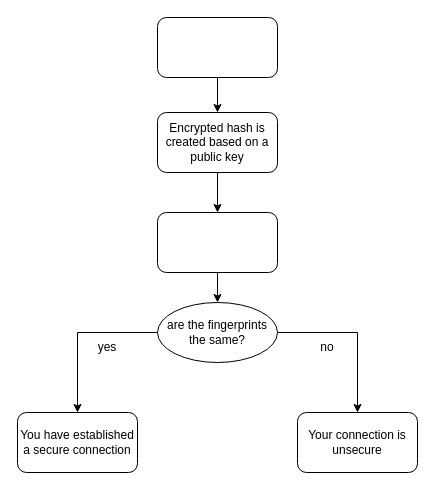
Image size: 435x490. Some labels were removed from this diagram. Here are the shapes that lost their labels. From the top down, the box of each, then its label:
(156, 16, 278, 78): Client visits website
(156, 212, 278, 272): Browser compares the new key with the authentic finger print
